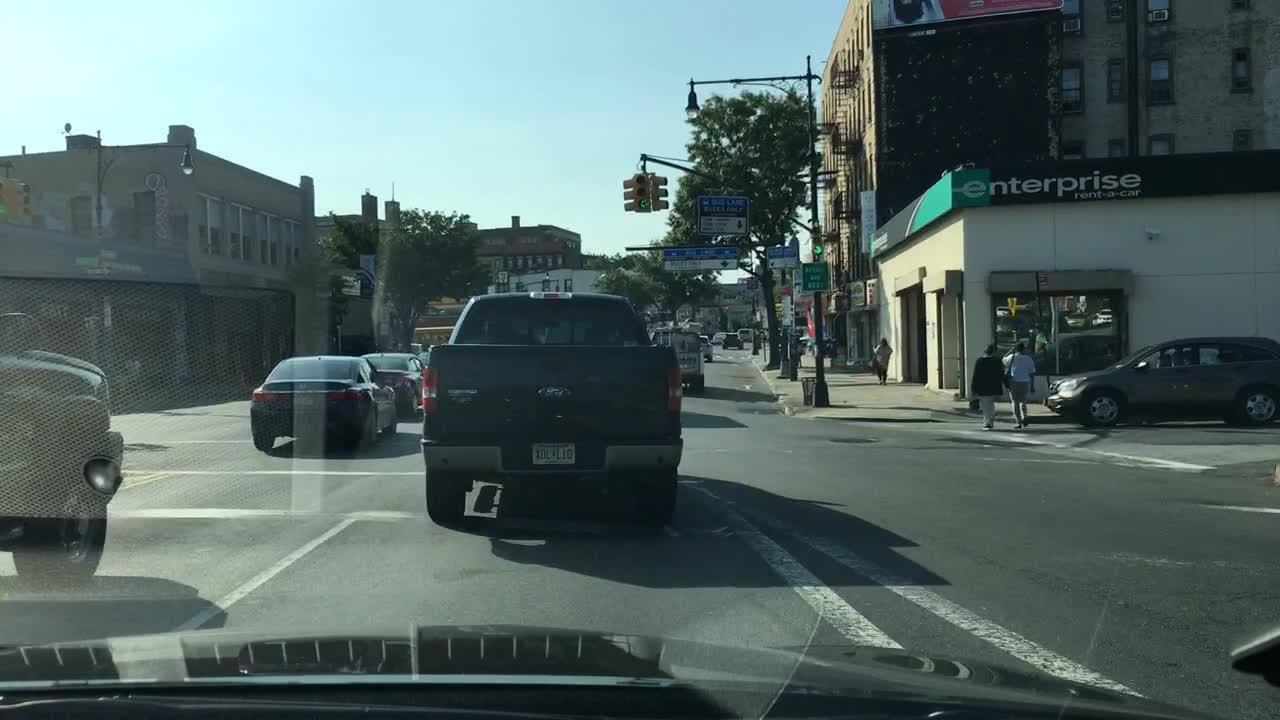ford: (533, 381, 575, 404)
